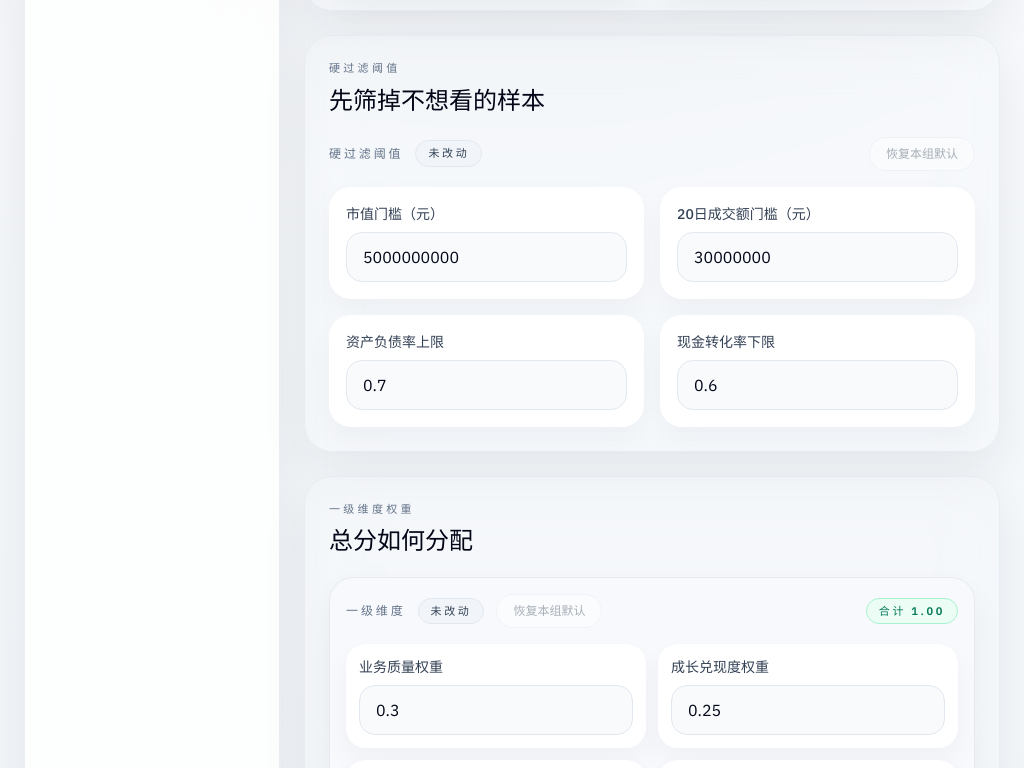
LabPage › shows cockpit summary, validation, and submit panels and highlights changed fields
This screenshot has width=1024, height=768.
(page scrolled)
Replace the text in the number field labelled "现金转化率下限" with "0.75": (818,384) x1=677 y1=360 x2=958 y2=410
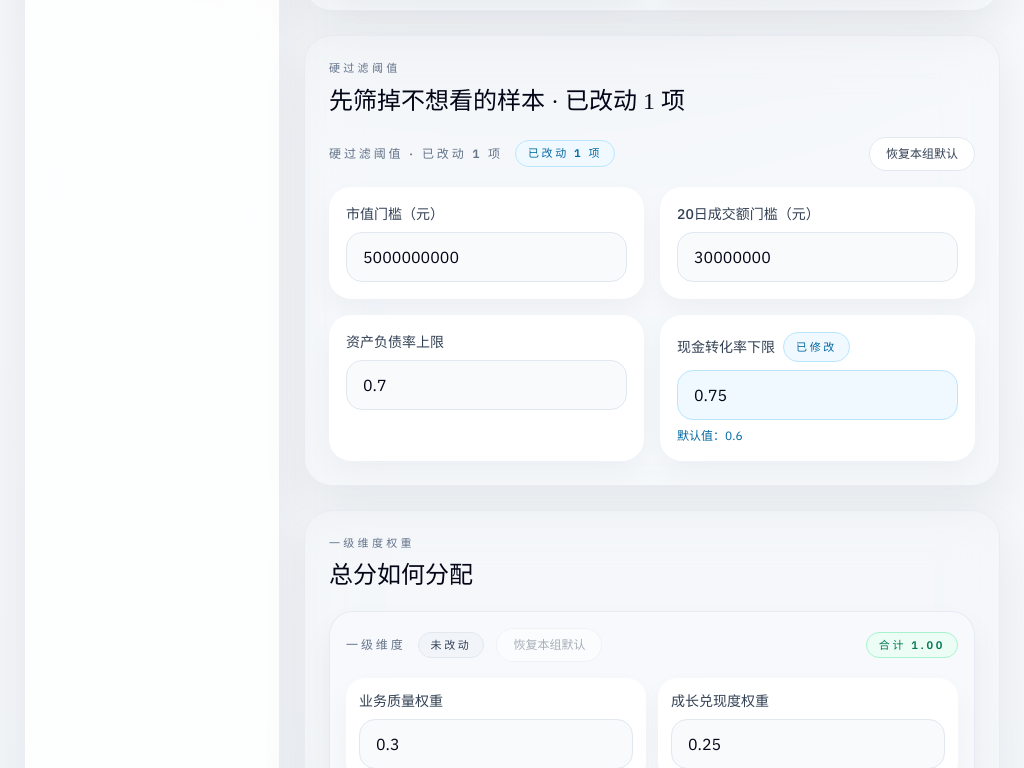
Check: the text "默认值：0.6" is shown, box x1=677 y1=428 x2=743 y2=442
